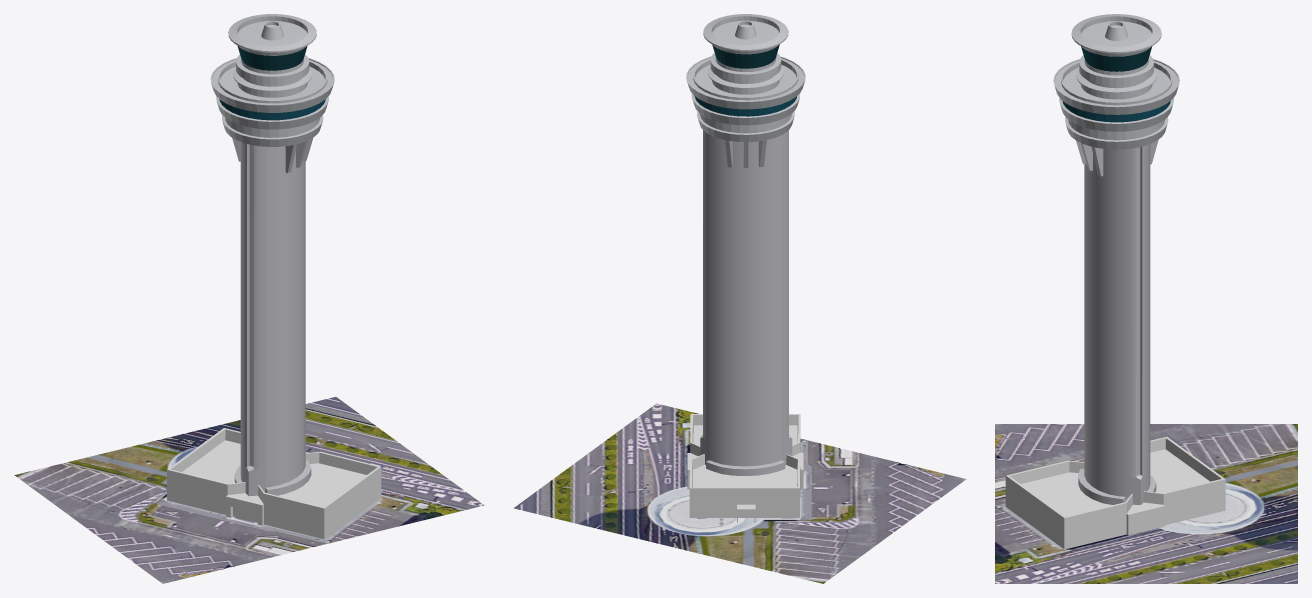
The model's file is Haneda_Tower.gltf.
The picture shows the model from 3 angles, left to right: view 1: azimuth 30°, elevation 25°; view 2: azimuth 150°, elevation 25°; view 3: azimuth 270°, elevation 25°; orthographic projection. The views are drawn at different scales.
Parts seen in each view (by area): view 1: EXPORT_GOOGLE_SAT_WM, Cube, Cube.001, Cylinder, Cube.010, Cylinder.004, Cube.002, Cylinder.002; view 2: EXPORT_GOOGLE_SAT_WM, Cube.010, Cylinder, Cube.001, Cylinder.004, Cylinder.002; view 3: EXPORT_GOOGLE_SAT_WM, Cube, Cube.001, Cylinder, Cube.010, Cube.002, Cylinder.004, Cylinder.002.
Boxes of the visible parts, x1,y1,x2,y2 form: EXPORT_GOOGLE_SAT_WM: [14, 396, 484, 583]; Cube: [248, 145, 311, 496]; Cube.001: [167, 428, 381, 539]; Cylinder: [210, 14, 334, 146]; Cube.010: [234, 142, 252, 495]; Cylinder.004: [237, 45, 307, 70]; Cube.002: [226, 493, 263, 525]; Cylinder.002: [219, 99, 325, 120]; EXPORT_GOOGLE_SAT_WM: [514, 403, 966, 583]; Cube.010: [700, 130, 792, 475]; Cylinder: [686, 14, 805, 142]; Cube.001: [689, 414, 800, 517]; Cylinder.004: [712, 44, 779, 68]; Cylinder.002: [694, 96, 796, 116]; EXPORT_GOOGLE_SAT_WM: [995, 424, 1297, 583]; Cube: [1078, 147, 1140, 504]; Cube.001: [1005, 436, 1225, 549]; Cylinder: [1053, 14, 1179, 149]; Cube.010: [1137, 144, 1156, 504]; Cube.002: [1126, 502, 1164, 535]; Cylinder.004: [1081, 46, 1152, 71]; Cylinder.002: [1062, 101, 1170, 122].
Bounding box in the file's own units: 95.55 × 135 × 76.44.
Materials: 12 (1 with a texture image).
